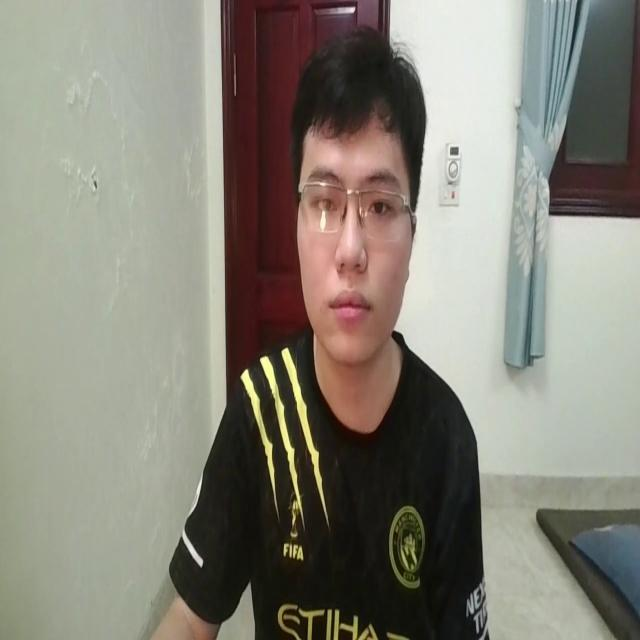student: (152, 39, 486, 640)
